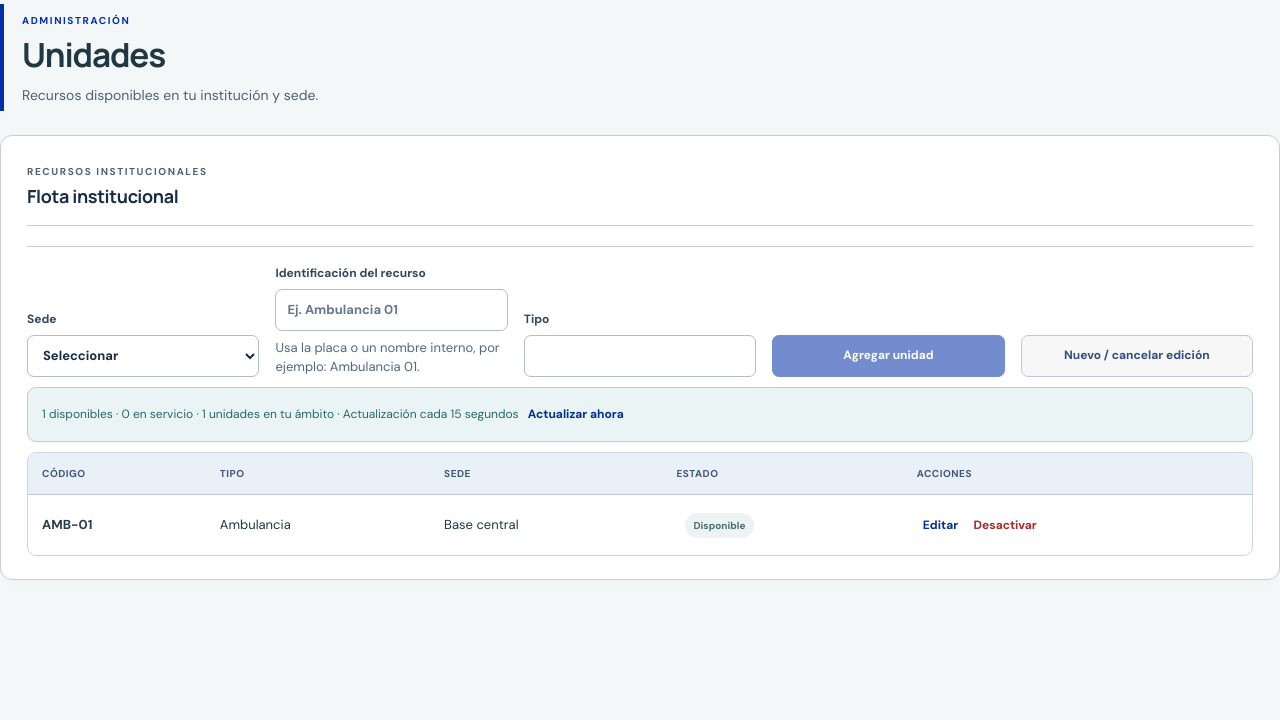
Test: edita un recurso dentro del formulario y confirma antes de desactivarlo
Click the button "Editar" at (940, 525), box 917,510 -> 964,540
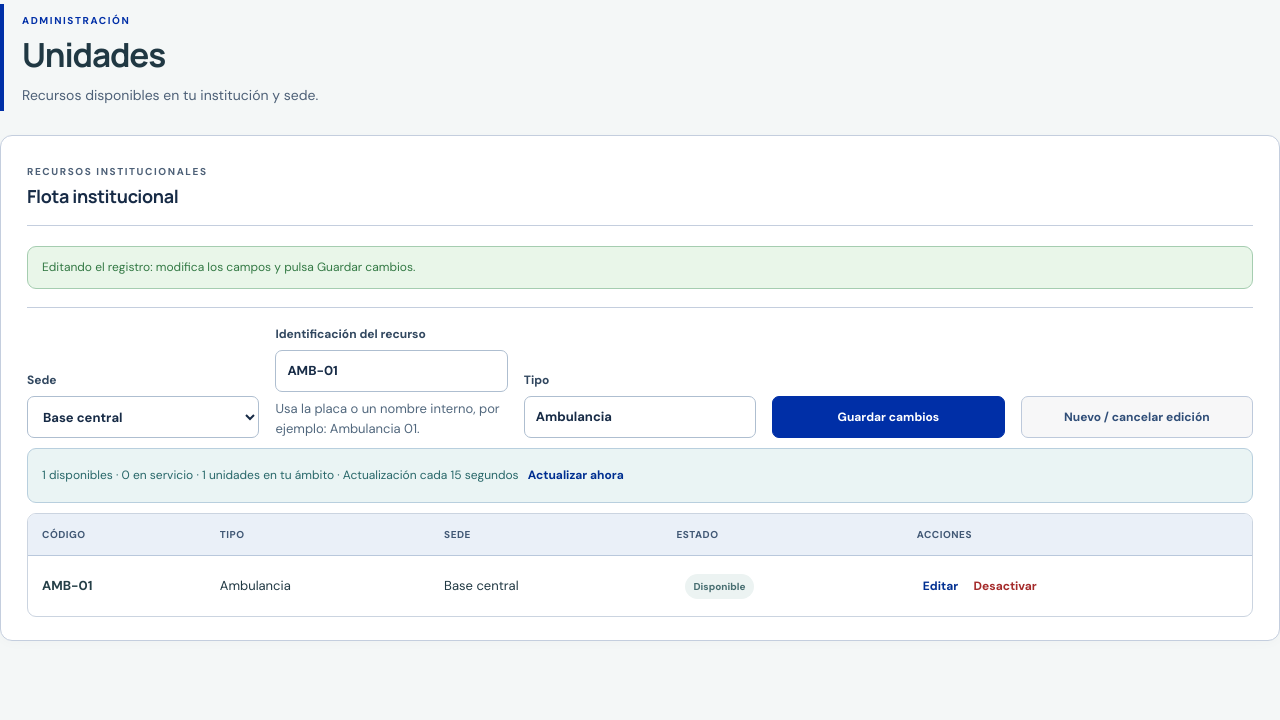
Replace the text in the field labelled "Tipo" with "Ambulancia de soporte avanzado" at (640, 417), box 524,396 -> 756,438
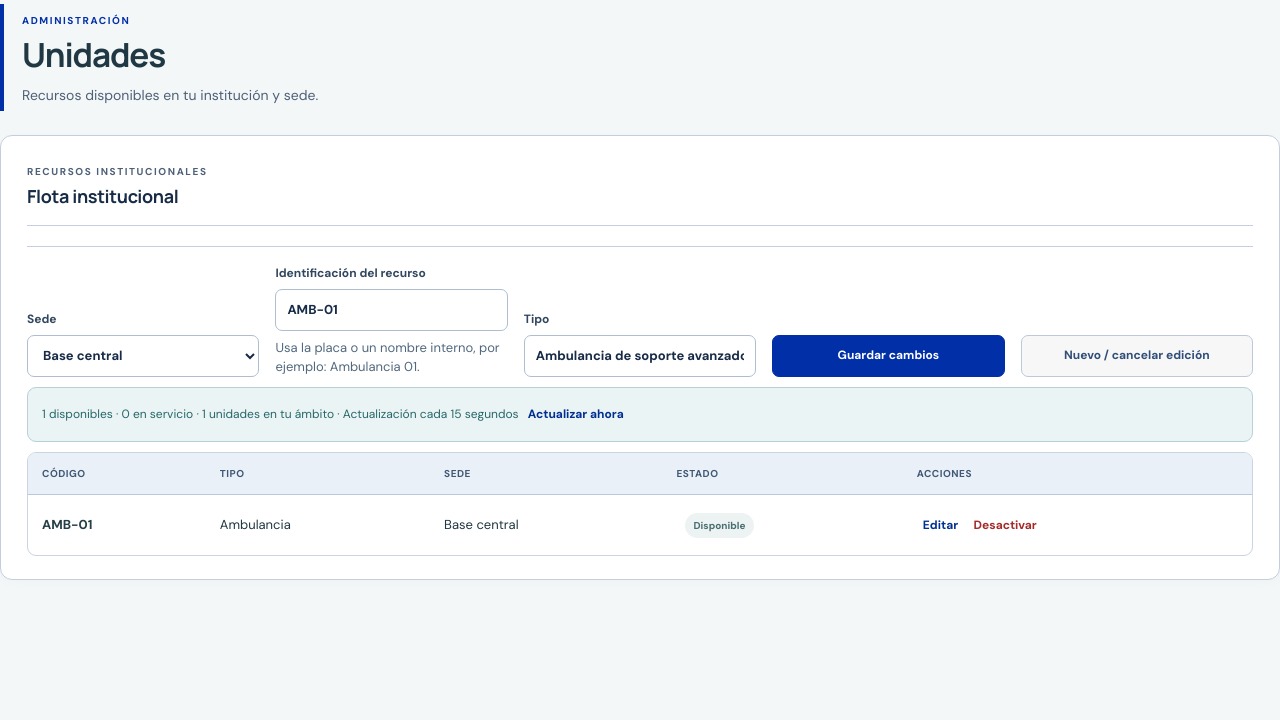
Click the button "Guardar cambios" at (888, 356), box 772,335 -> 1005,377
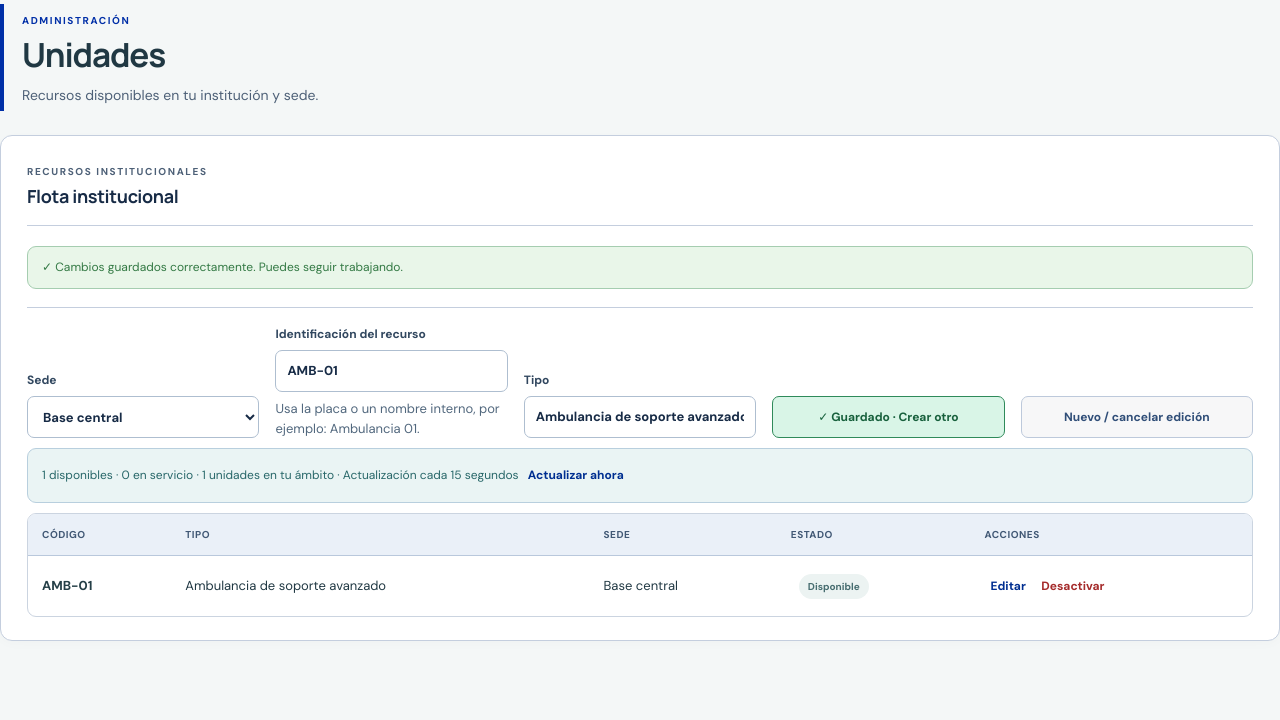
Result: the text "✓ Cambios guardados correctamente. Puedes seguir trabajando." is shown at 27,246 -> 1253,289
Result: the text "Ambulancia de soporte avanzado" is shown at 171,556 -> 590,616
Click the button "Desactivar" at (1073, 586), box 1035,571 -> 1110,601
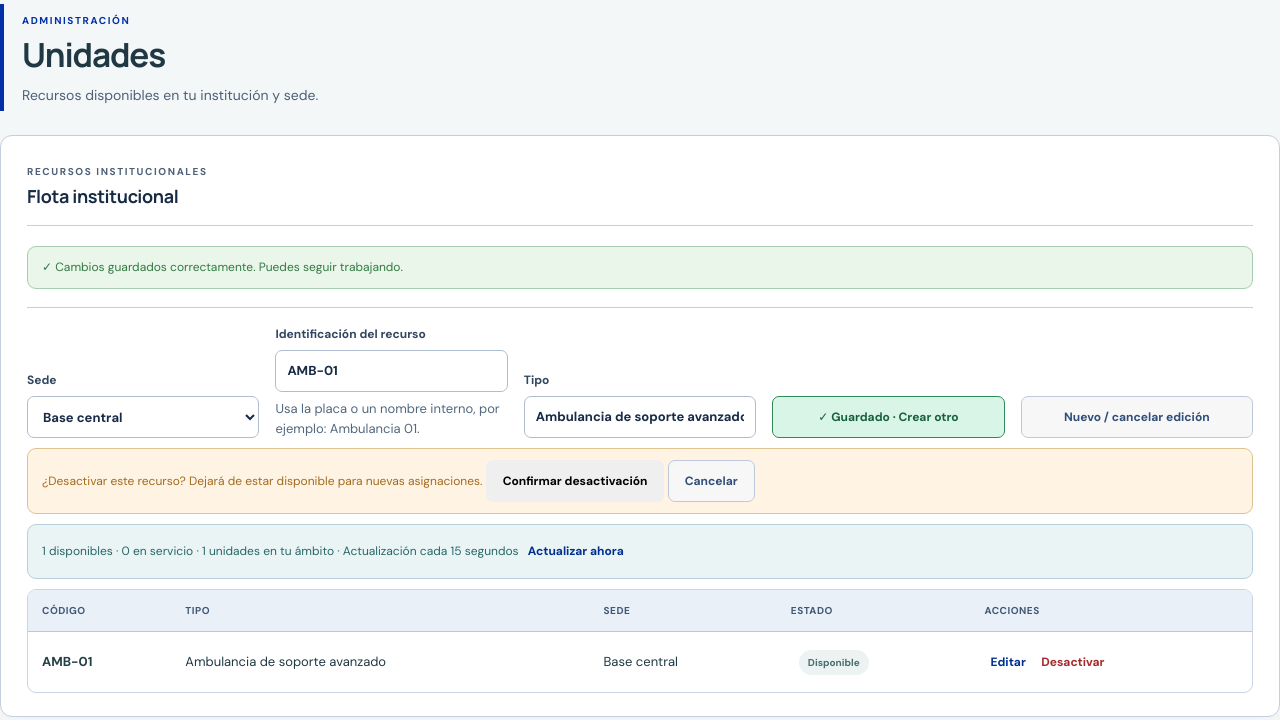
Click the button "Confirmar desactivación" at (575, 481), box 486,460 -> 664,502
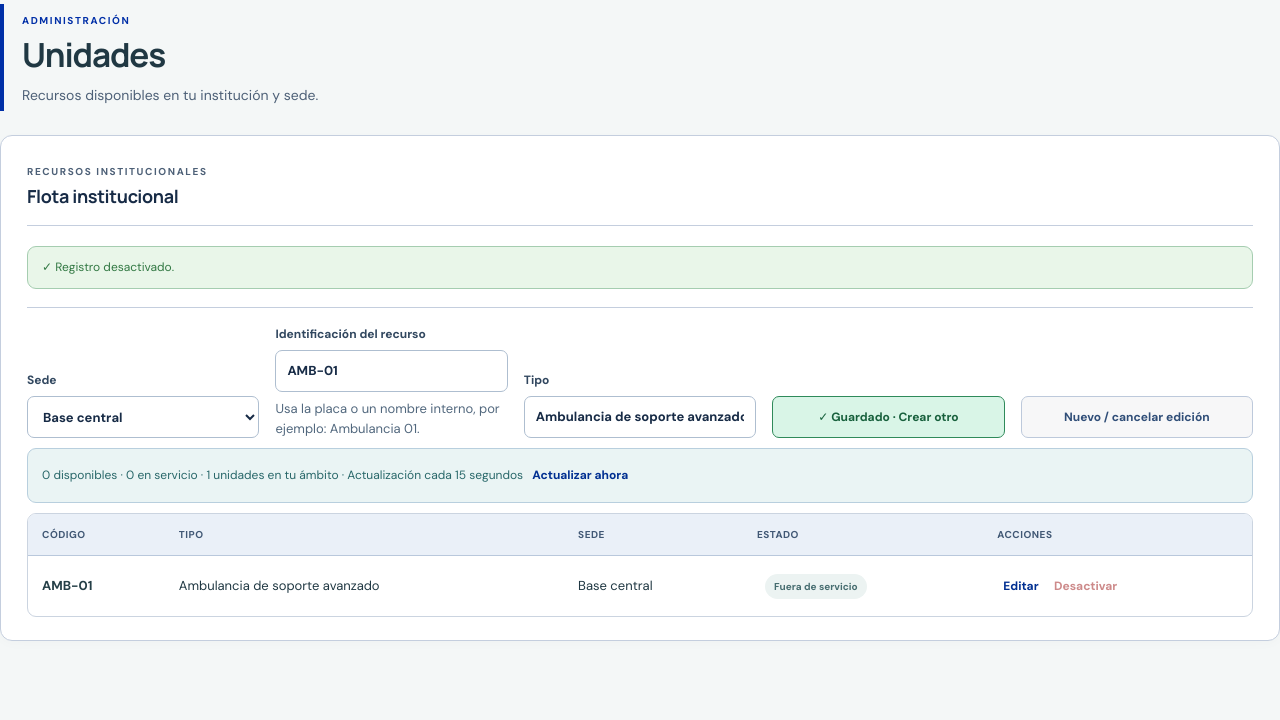
Result: the text "Fuera de servicio" is shown at 765,574 -> 867,599
